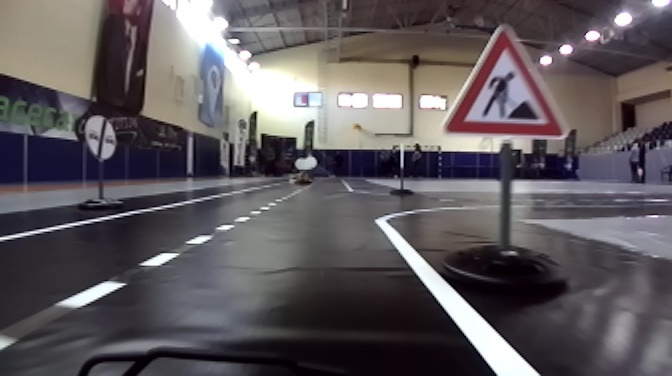yol_yapimi: (439, 26, 570, 143)
